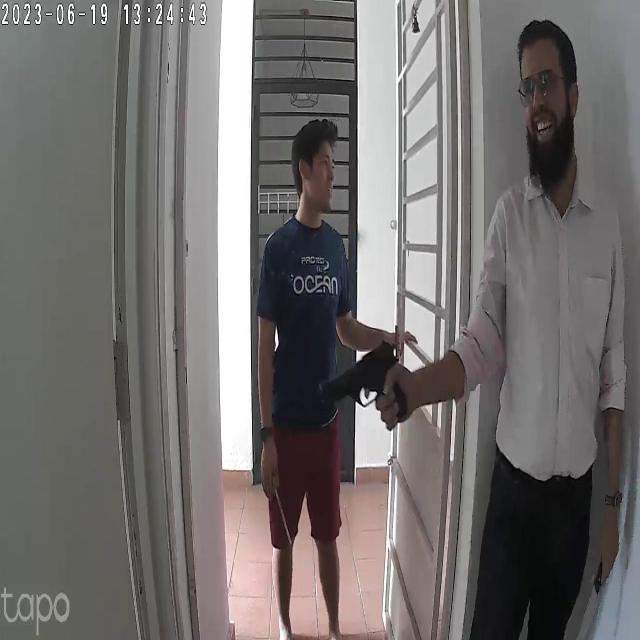Gun: (319, 324, 429, 430)
Knife: (262, 478, 301, 554)
